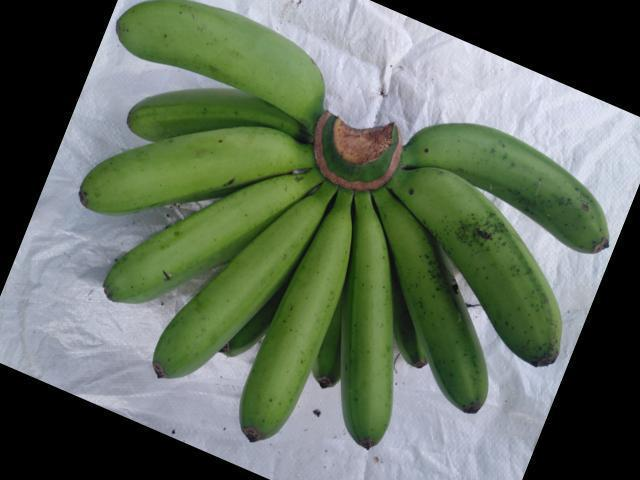unripe: (375, 155, 565, 361), (92, 148, 343, 302), (408, 104, 639, 263), (68, 107, 339, 219), (326, 168, 413, 442), (108, 0, 329, 107)
